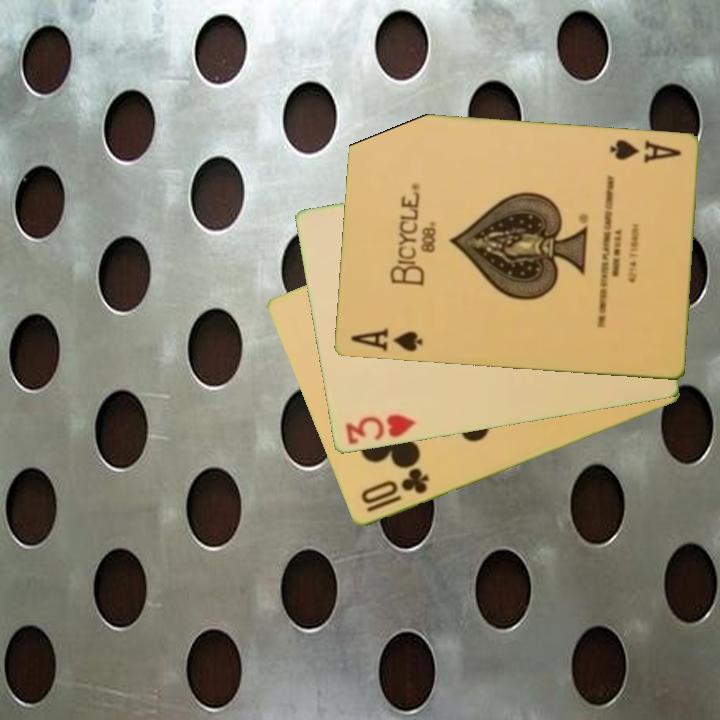10c: (357, 465, 432, 516)
3h: (341, 411, 418, 448)
As: (605, 136, 684, 166), (347, 325, 425, 355)
